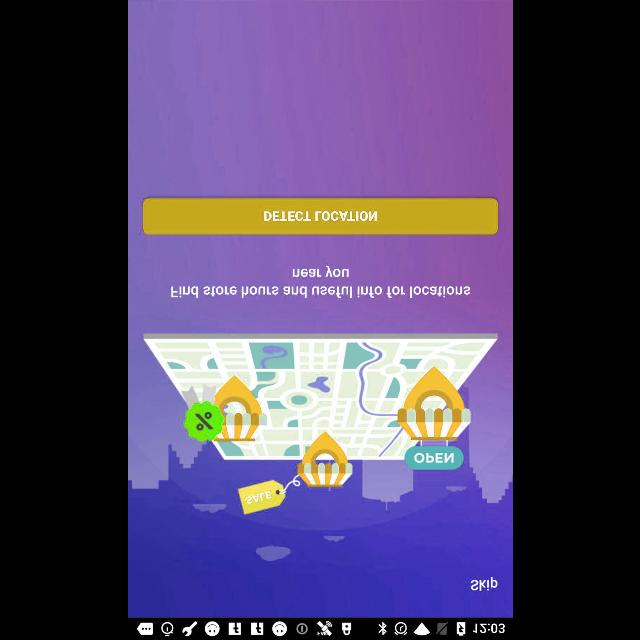image: (128, 333, 512, 561)
text: (170, 264, 470, 300), (469, 576, 497, 592)
textbutton: (142, 198, 498, 236)
uppertaskbar: (128, 617, 512, 639)
